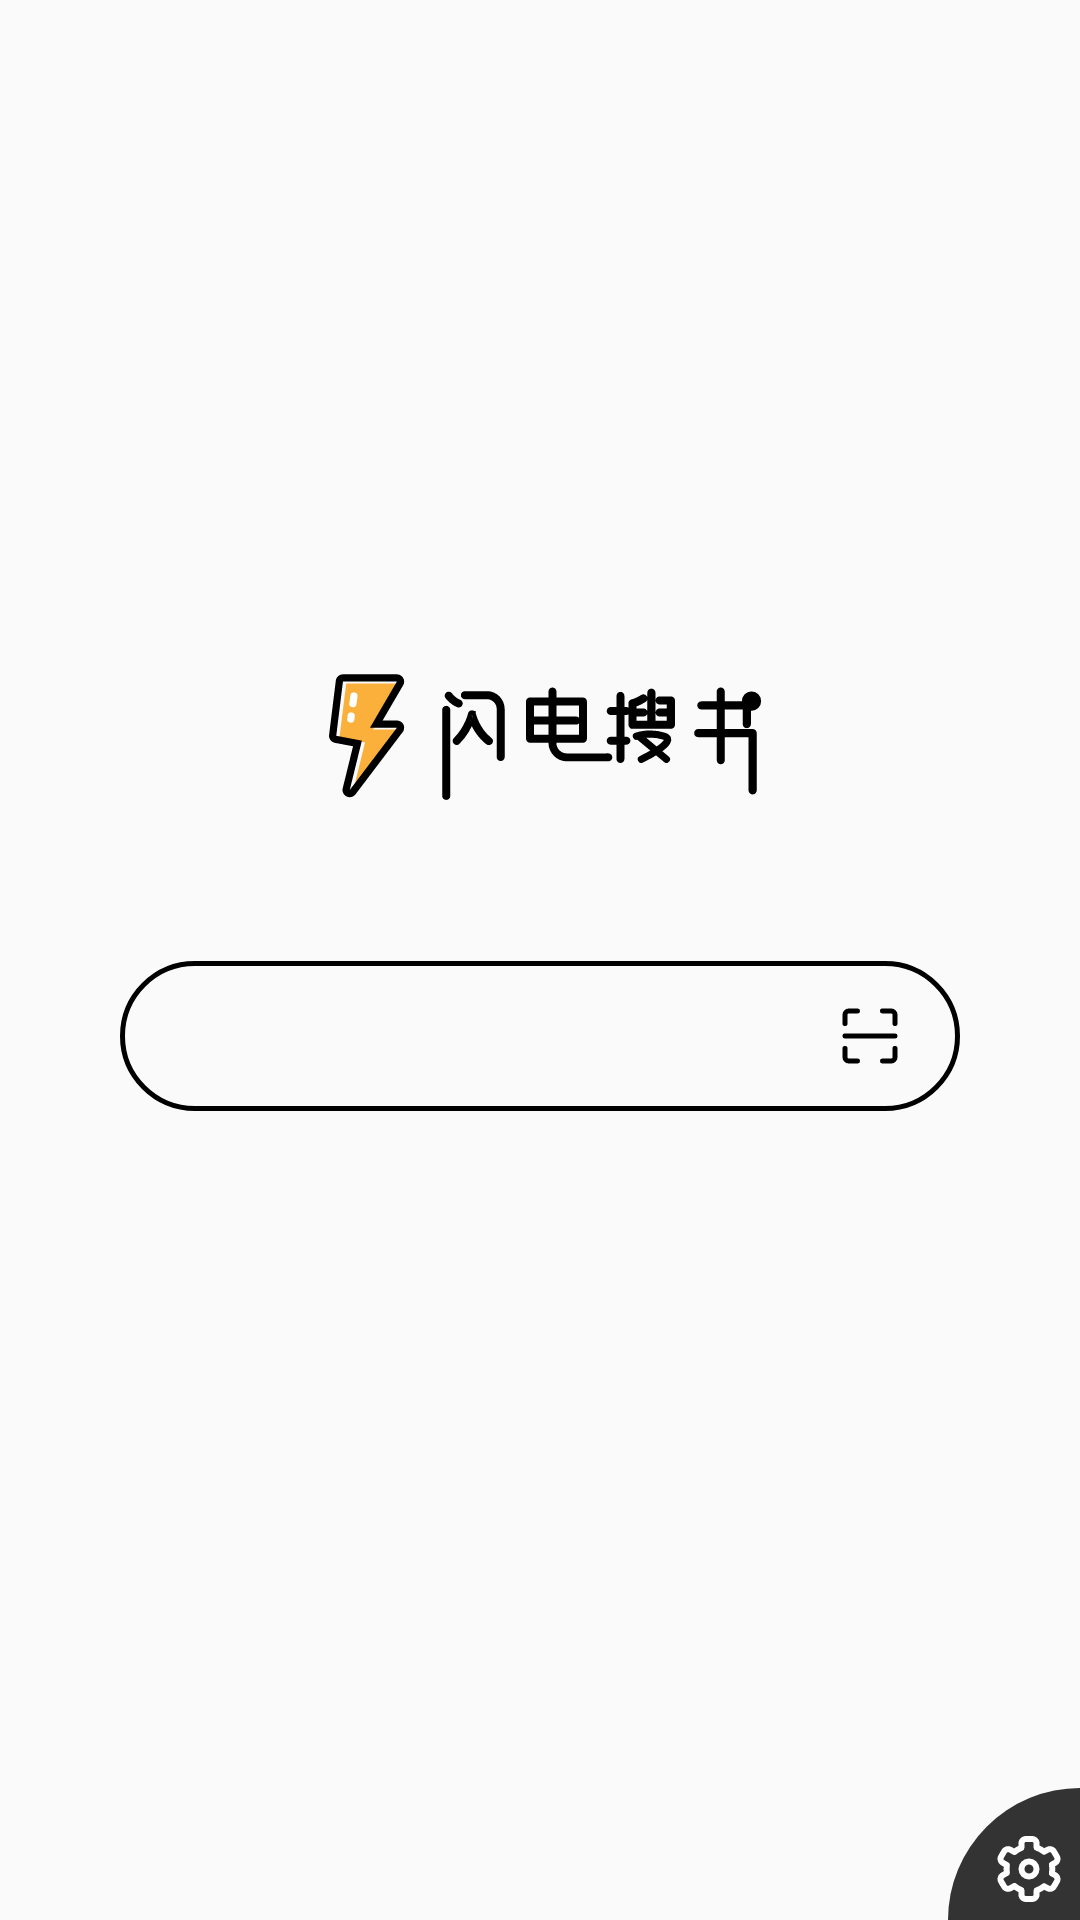

Screen size 1080*1920. Icon name, then its box in pixels as box(x1, y1, x2, y2):
scanqr: box(842, 1008, 898, 1064)
settings: box(948, 1788, 1080, 1920)
